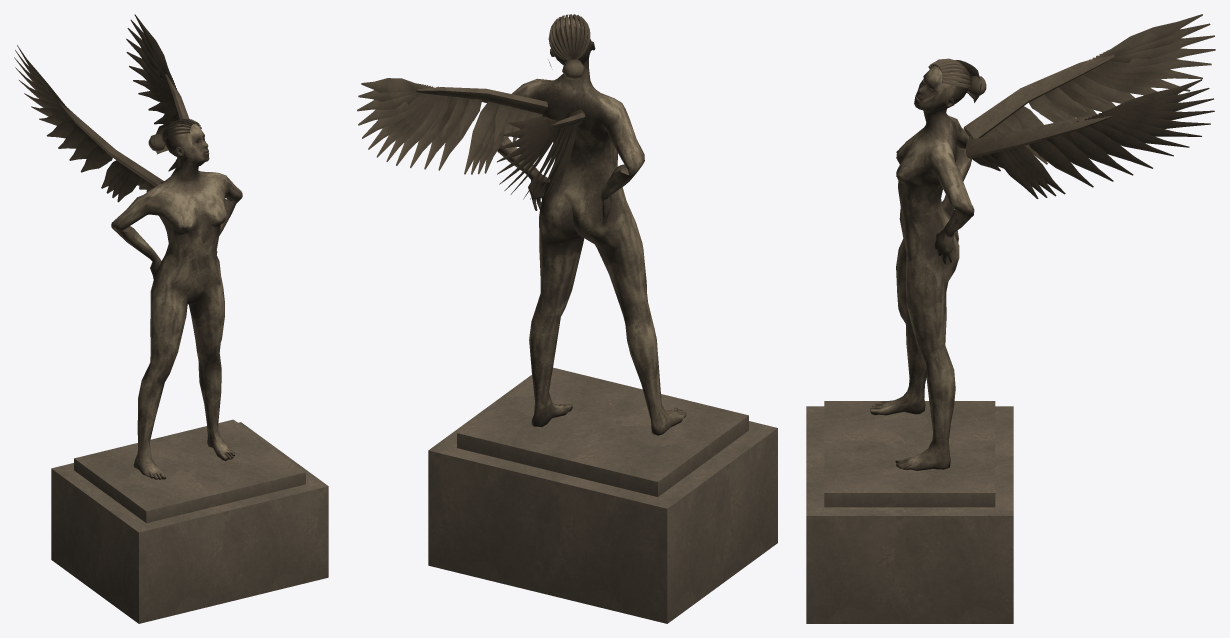
The model's file is mm7_deco_dec94.glb.
3 views of the same model, side by side, from view 1: azimuth 30°, elevation 25°; view 2: azimuth 150°, elevation 25°; view 3: azimuth 270°, elevation 25° (orthographic). The views are drawn at different scales.
Parts seen in each view (by area): view 1: Statue; view 2: Statue; view 3: Statue.
Boxes of the visible parts, x1,y1,x2,y2 form: Statue: (14,14,328,623); Statue: (357,14,777,623); Statue: (806,14,1215,623).
Size of the model in its own units: 1 by 2.25 by 1.58.
4 materials, 4 textured.
